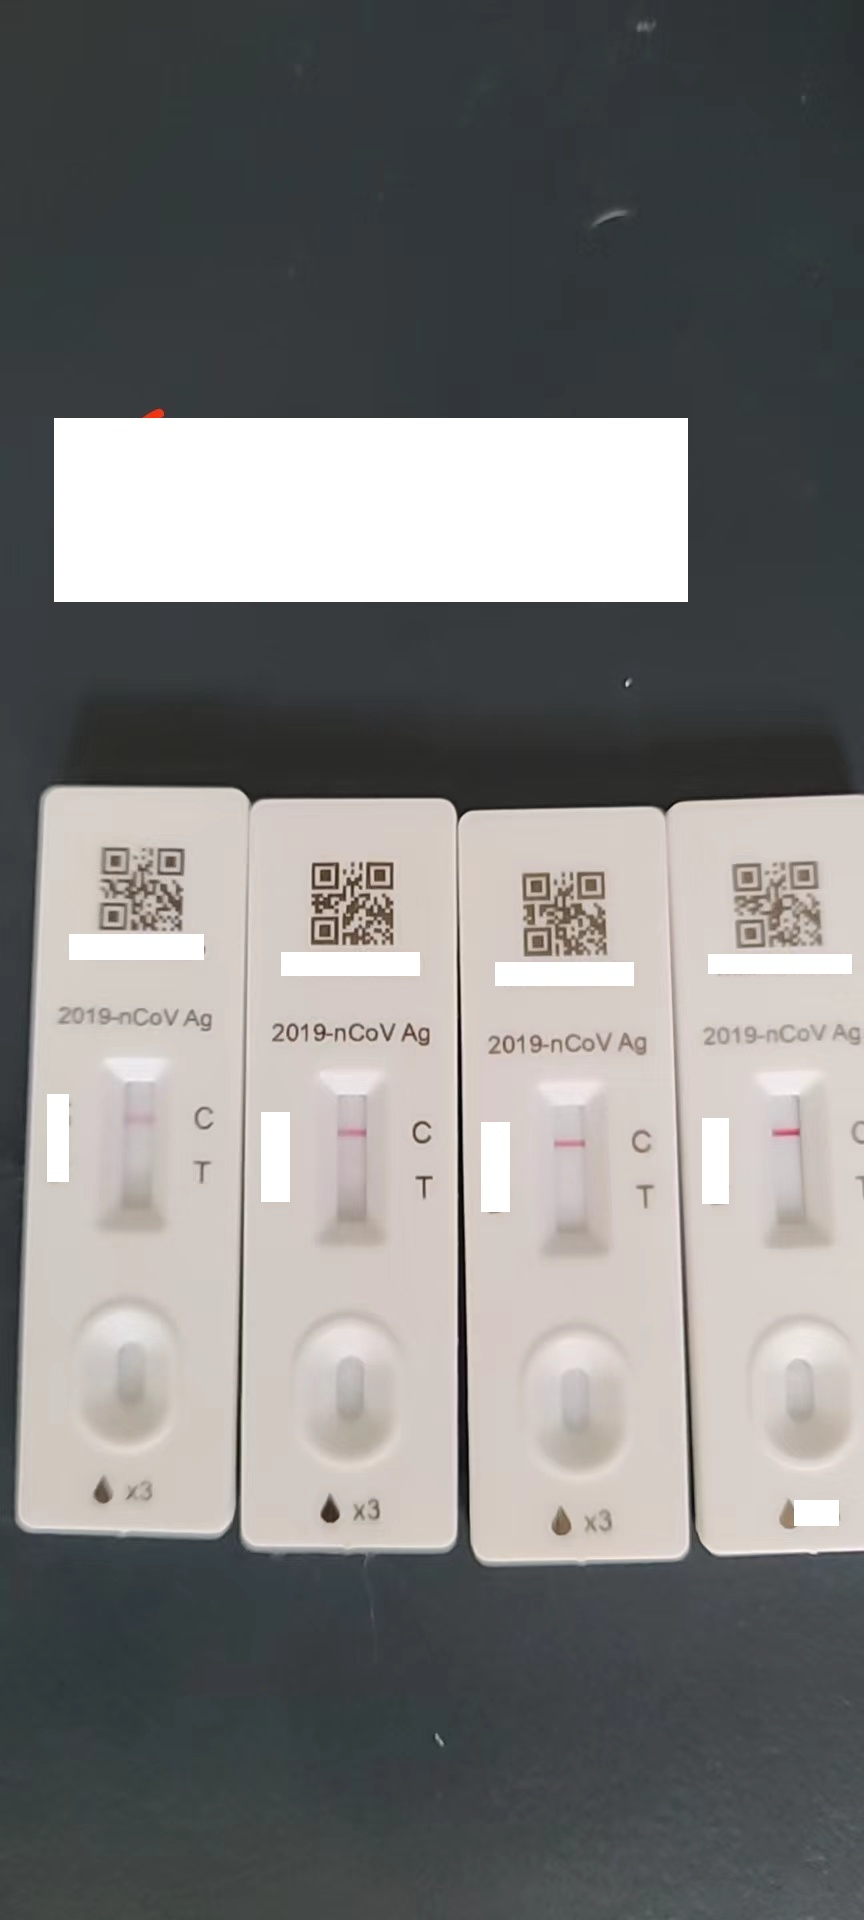negative: (95, 1056, 175, 1233), (536, 1080, 612, 1258), (315, 1067, 388, 1247), (758, 1073, 830, 1251)
